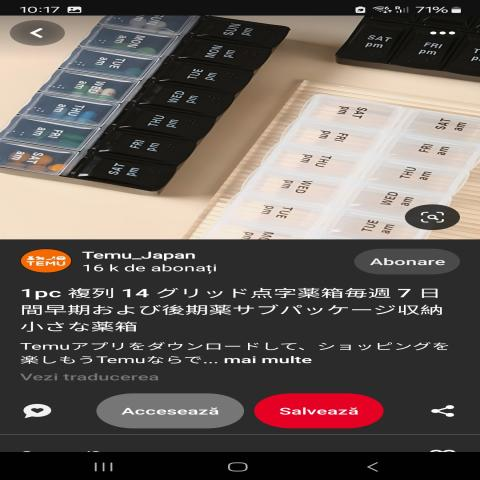PillBox: (7, 12, 295, 207)
